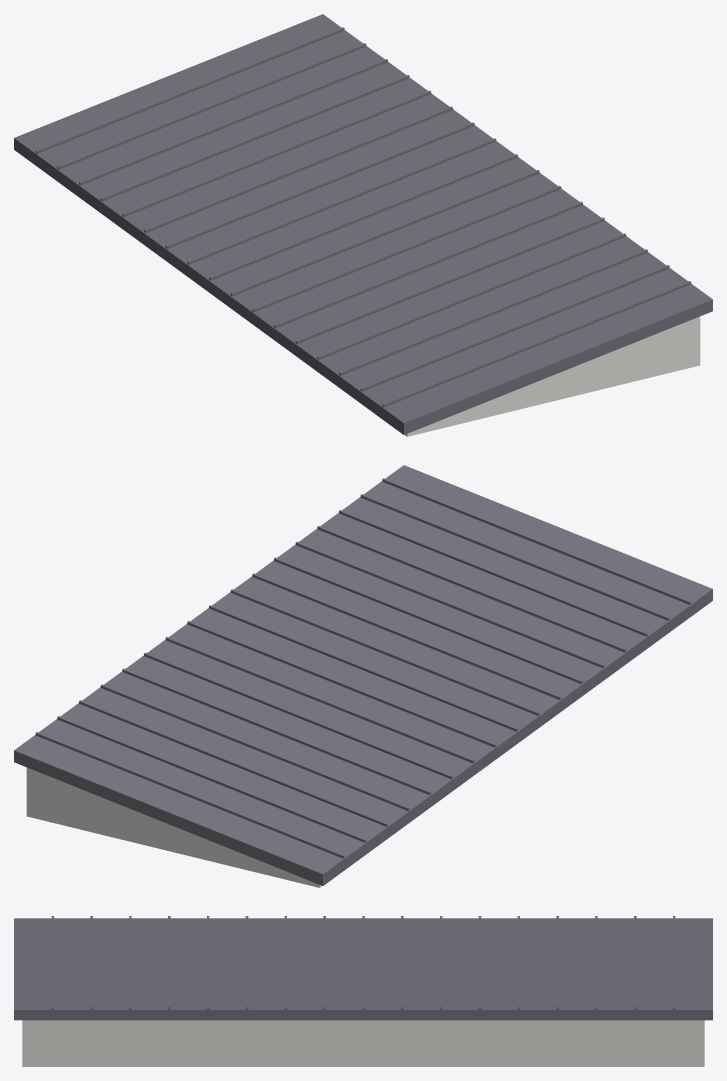
The model's file is SM_Roof_NarrowShedLeft_White_364_01.gltf.
3 renders of one model, top to bottom at view 1: azimuth 30°, elevation 25°; view 2: azimuth 150°, elevation 25°; view 3: azimuth 270°, elevation 25°, orthographic. The views are drawn at different scales.
Visible parts, largest first — view 1: SM_Roof_NarrowShedLeft_White_364_01; view 2: SM_Roof_NarrowShedLeft_White_364_01; view 3: SM_Roof_NarrowShedLeft_White_364_01.
Part boxes in pixels (x1=…): SM_Roof_NarrowShedLeft_White_364_01: x1=14, y1=14, x2=712, y2=436; SM_Roof_NarrowShedLeft_White_364_01: x1=14, y1=465, x2=712, y2=887; SM_Roof_NarrowShedLeft_White_364_01: x1=14, y1=916, x2=712, y2=1066.
Bounding box in the file's own units: 3.84 × 0.8295 × 8.39.
Materials: 1 (1 with a texture image).
